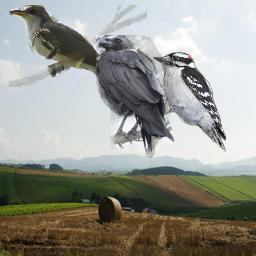Crow: (96, 35, 174, 158)
Cuckoo: (9, 5, 147, 124)
Woodpecker: (153, 52, 226, 152)
